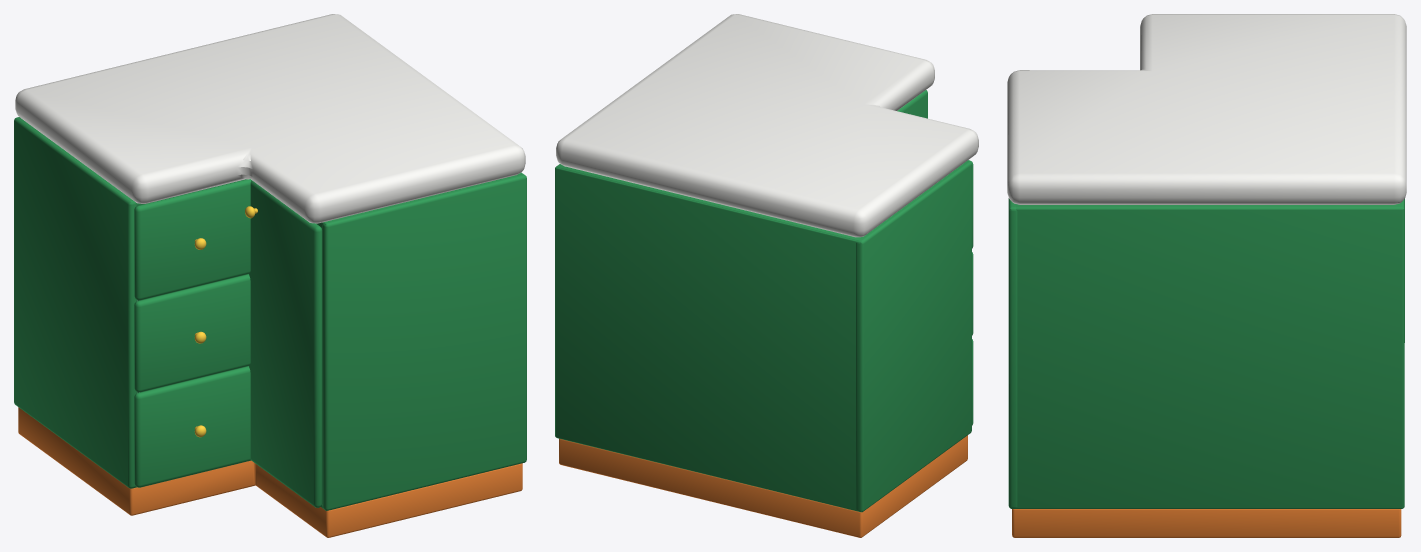
The model's file is armario_cozinha_canto_verde.glb.
3 renders of one model, left to right at view 1: azimuth 30°, elevation 25°; view 2: azimuth 150°, elevation 25°; view 3: azimuth 270°, elevation 25°, orthographic. The views are drawn at different scales.
Visible parts, largest first — view 1: armario_cozinha_canto_verde, porta_1, gaveta_3, gaveta_1, gaveta_2; view 2: armario_cozinha_canto_verde; view 3: armario_cozinha_canto_verde.
Boxes of the visible parts, bbox=[...] form: armario_cozinha_canto_verde: bbox=[14, 14, 526, 537]; porta_1: bbox=[245, 180, 322, 507]; gaveta_3: bbox=[134, 366, 250, 487]; gaveta_1: bbox=[134, 179, 251, 300]; gaveta_2: bbox=[134, 274, 250, 392]; armario_cozinha_canto_verde: bbox=[555, 14, 978, 537]; armario_cozinha_canto_verde: bbox=[1007, 14, 1406, 537].
Size of the model in its own units: 0.898 by 0.9 by 0.899.
Materials: 1 (1 with a texture image).
